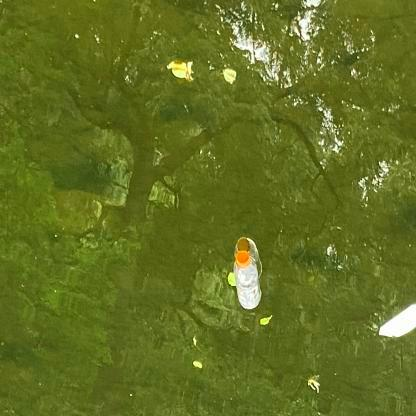Plastic: (232, 245, 266, 315)
Trash: (379, 298, 416, 344)
